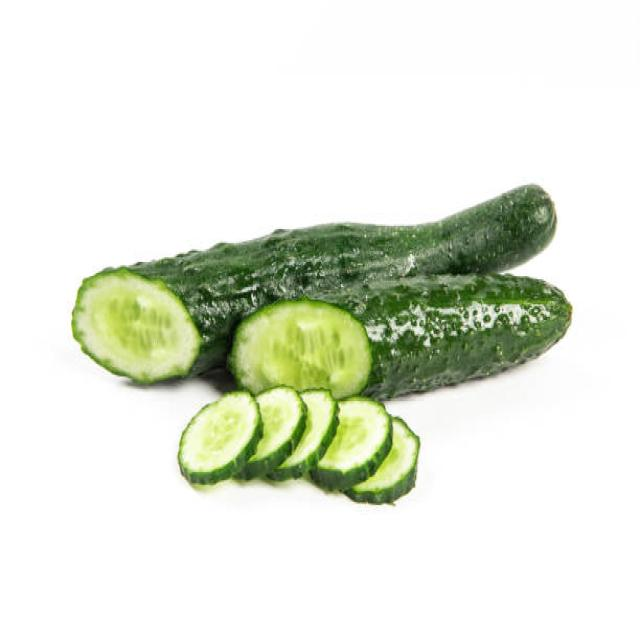cucumber: (72, 182, 573, 405)
